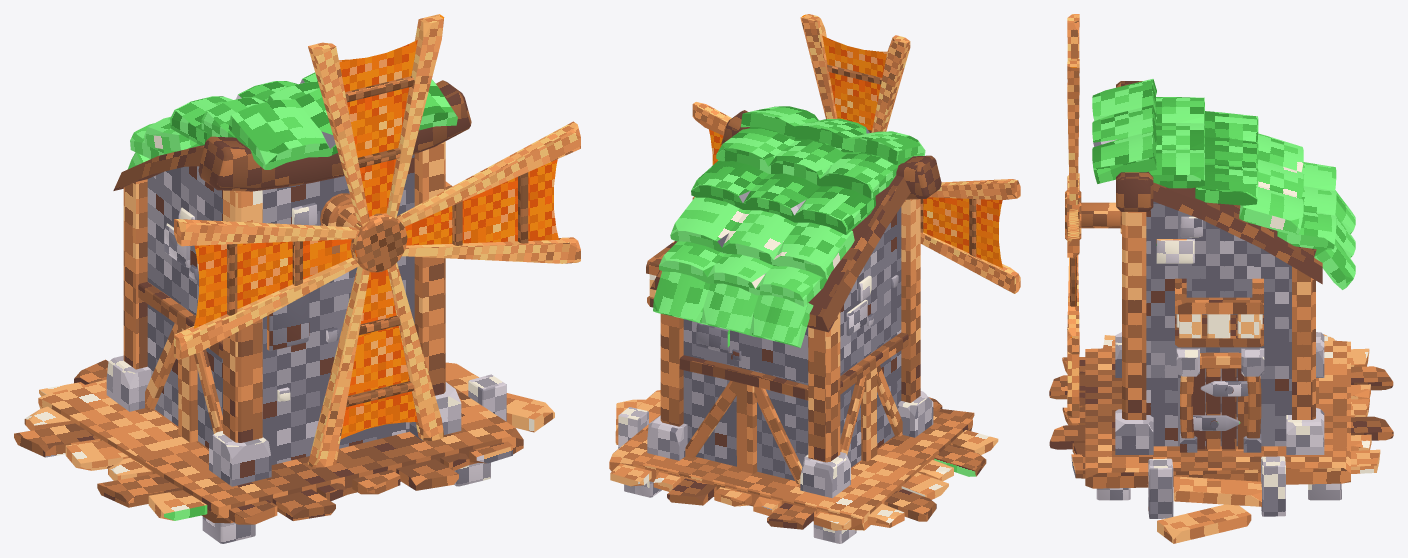
Rendered from pixel-windmill.glb.
3 renders of one model, left to right at view 1: azimuth 30°, elevation 25°; view 2: azimuth 150°, elevation 25°; view 3: azimuth 270°, elevation 25°, orthographic. The views are drawn at different scales.
Visible parts, largest first — view 1: pixel windmill_1, pixel windmill; view 2: pixel windmill_1, pixel windmill; view 3: pixel windmill_1, pixel windmill.
Part boxes in pixels (x1,y1,x2,y2): pixel windmill_1: (14, 72, 554, 543); pixel windmill: (174, 14, 580, 467); pixel windmill_1: (609, 106, 998, 543); pixel windmill: (692, 14, 1020, 293); pixel windmill_1: (1049, 79, 1393, 543); pixel windmill: (1065, 14, 1081, 416).
Bounding box in the file's own units: 4.04 × 4.07 × 3.12.
Materials: 2 (2 with a texture image).
